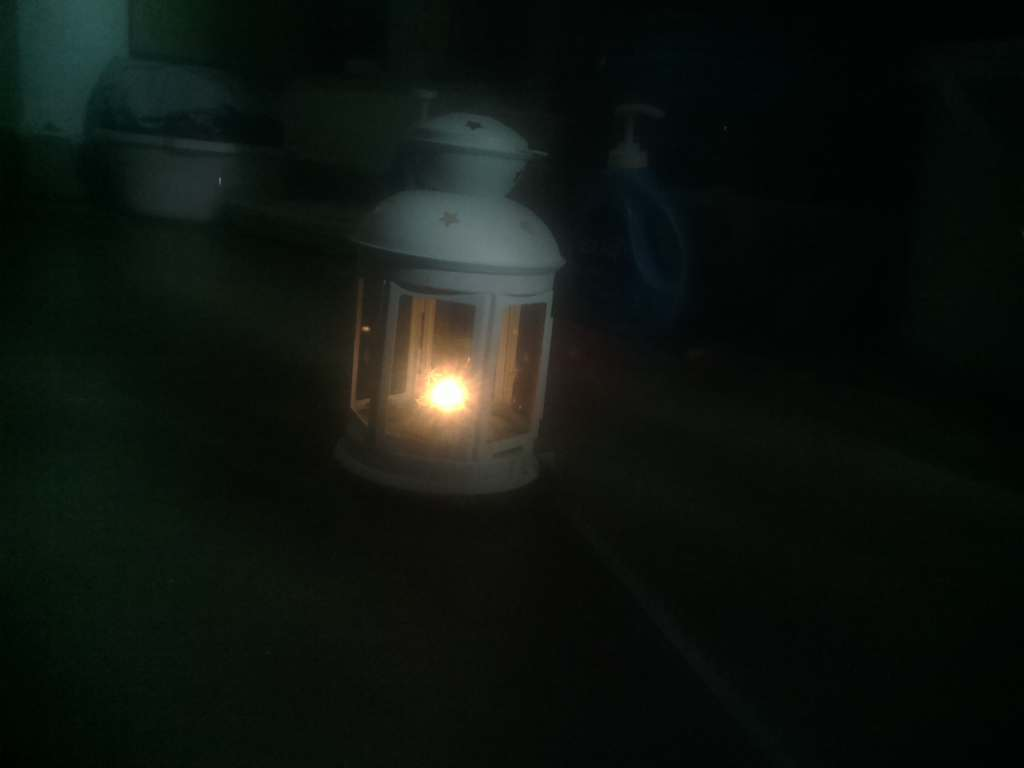fire: (408, 349, 517, 452)
